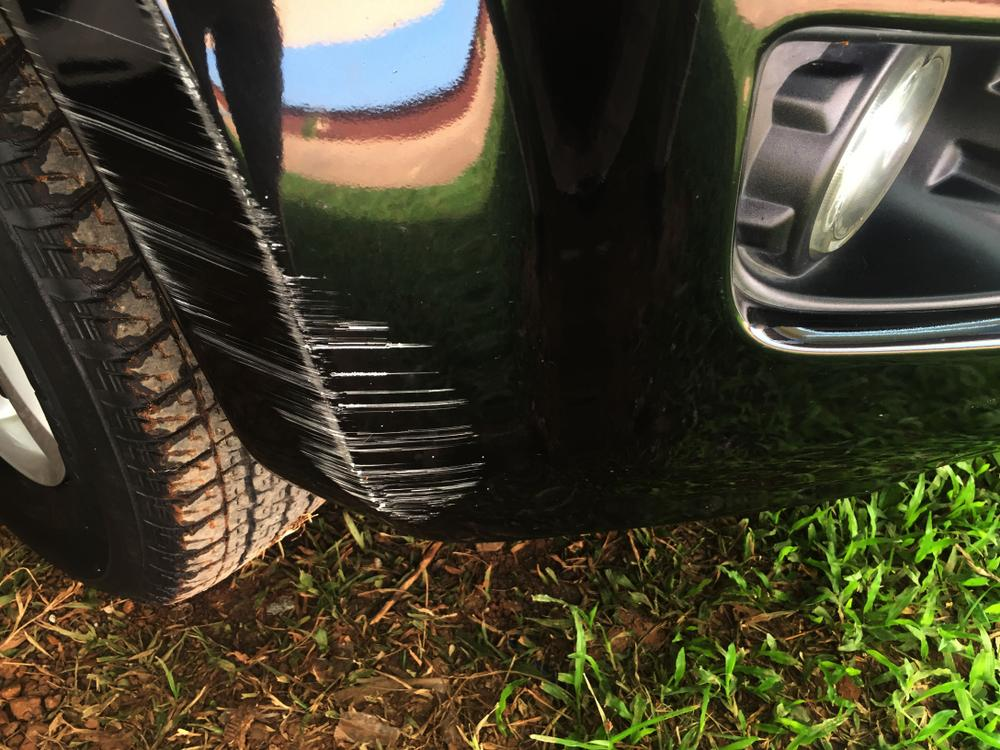scratch: (0, 0, 484, 516)
